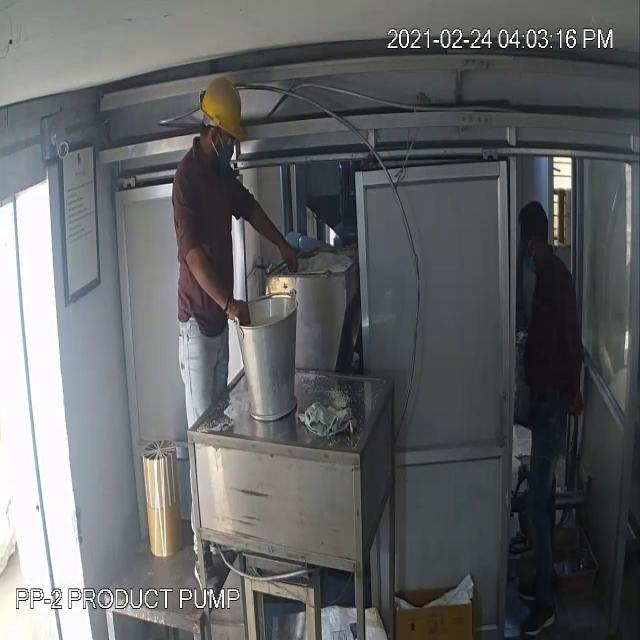helmet: (199, 72, 245, 137)
